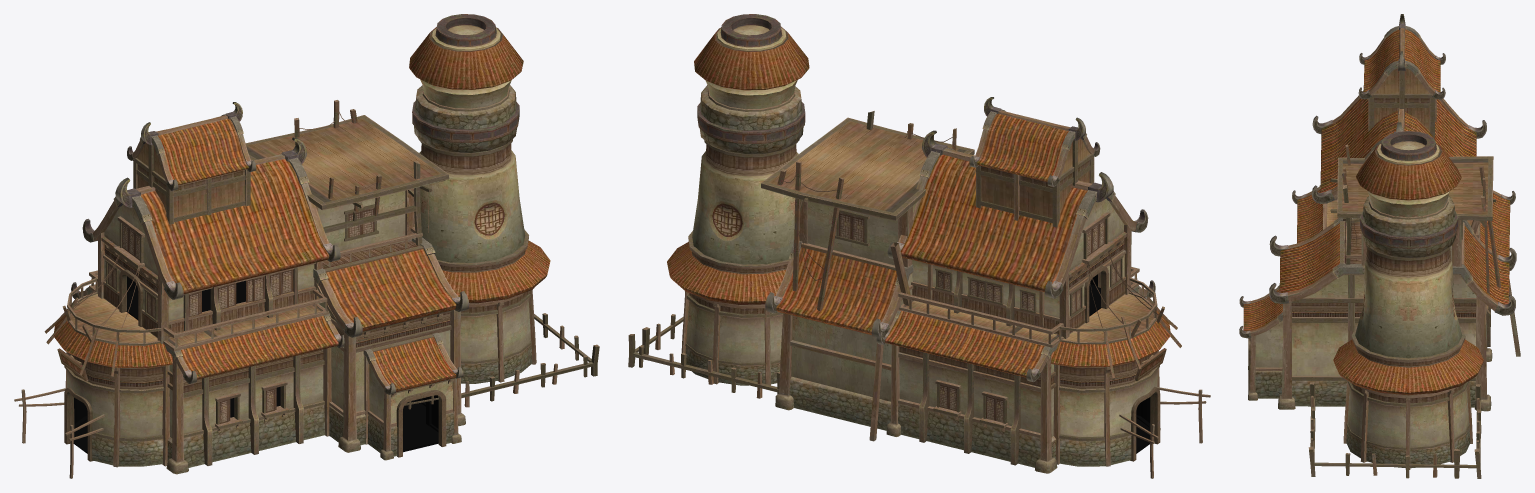
The model's file is house.fbx.
The picture shows the model from 3 angles, left to right: view 1: azimuth 30°, elevation 25°; view 2: azimuth 150°, elevation 25°; view 3: azimuth 270°, elevation 25°; orthographic projection. The views are drawn at different scales.
Parts seen in each view (by area): view 1: Obj3d66-734244-3-325; view 2: Obj3d66-734244-3-325; view 3: Obj3d66-734244-3-325.
Boxes of the visible parts, x1=… form: Obj3d66-734244-3-325: x1=14, y1=14, x2=599, y2=478; Obj3d66-734244-3-325: x1=628, y1=14, x2=1210, y2=478; Obj3d66-734244-3-325: x1=1239, y1=14, x2=1520, y2=478.
Size of the model in its own units: 7.79 by 4.07 by 4.8.
2 materials, 1 textured.
